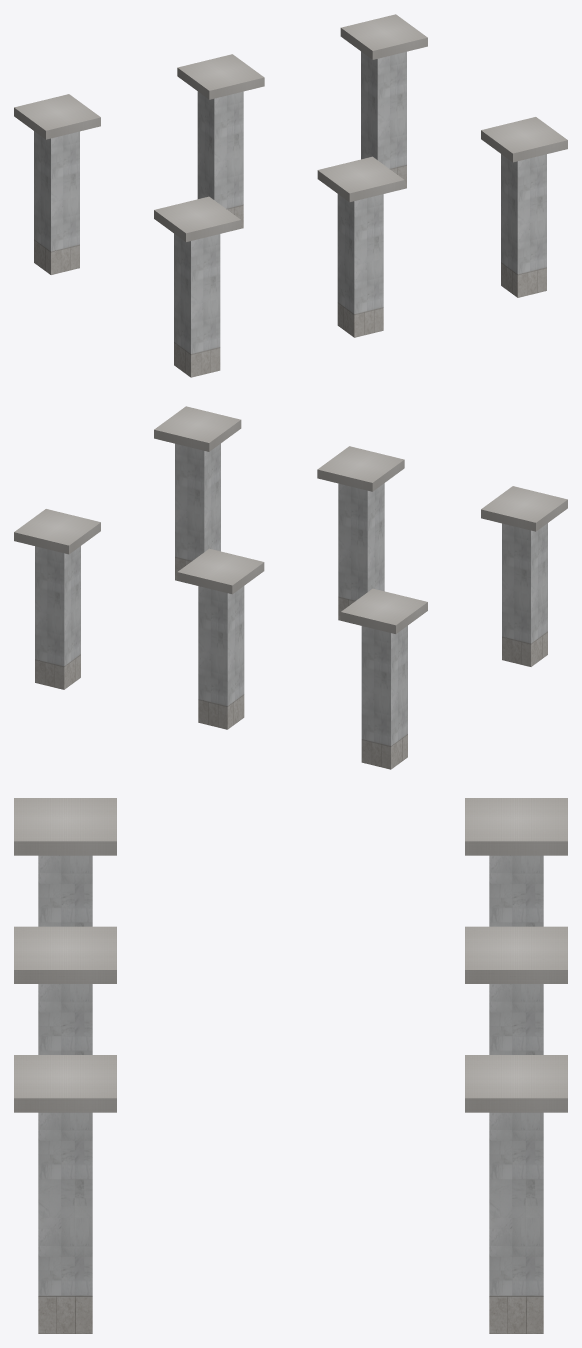
File: Subway05_InterCalumn.FBX
3 renders of one model, top to bottom at view 1: azimuth 30°, elevation 25°; view 2: azimuth 150°, elevation 25°; view 3: azimuth 270°, elevation 25°, orthographic. The views are drawn at different scales.
Visible parts, largest first — view 1: Subway05_InterCalumn01, Subway05_InterCalumn02; view 2: Subway05_InterCalumn01, Subway05_InterCalumn02; view 3: Subway05_InterCalumn01, Subway05_InterCalumn02.
Boxes of the visible parts, x1,y1,x2,y2 form: Subway05_InterCalumn01: [34, 51, 546, 377]; Subway05_InterCalumn02: [14, 14, 567, 241]; Subway05_InterCalumn01: [35, 443, 547, 769]; Subway05_InterCalumn02: [14, 406, 567, 633]; Subway05_InterCalumn01: [38, 855, 543, 1333]; Subway05_InterCalumn02: [14, 798, 567, 1112].
Bounding box in the file's own units: 15686 × 6001 × 12238.
